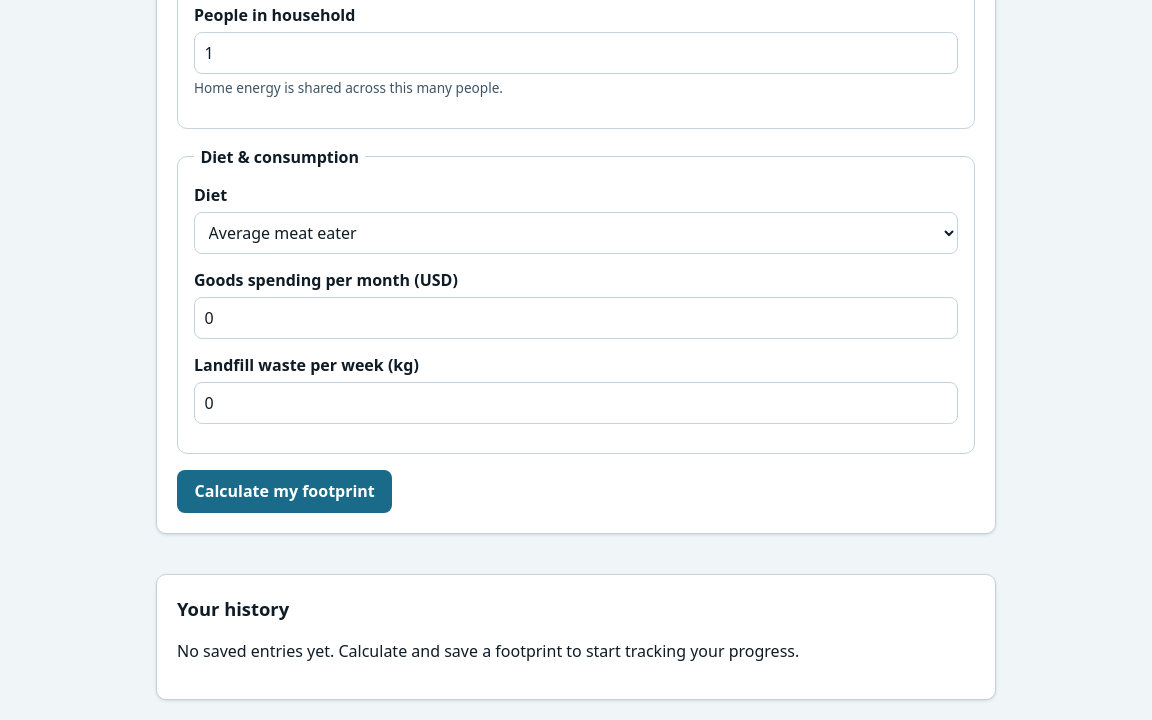
Test: App › shows an error message when calculation fails
(page scrolled)
Click the button "Calculate my footprint".
click(285, 491)  # box [177, 470, 392, 513]
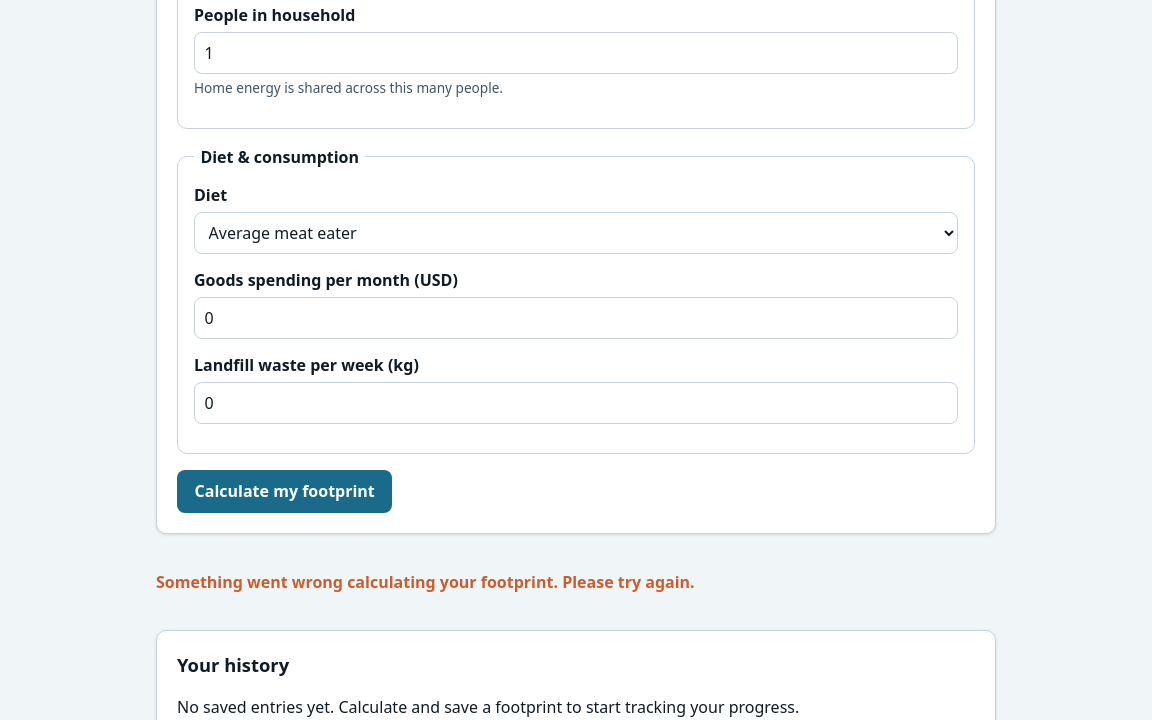
Expected: the message shows "Something went wrong", [156, 571, 695, 593]
